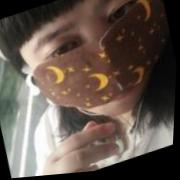WRONG: (15, 1, 180, 145)
